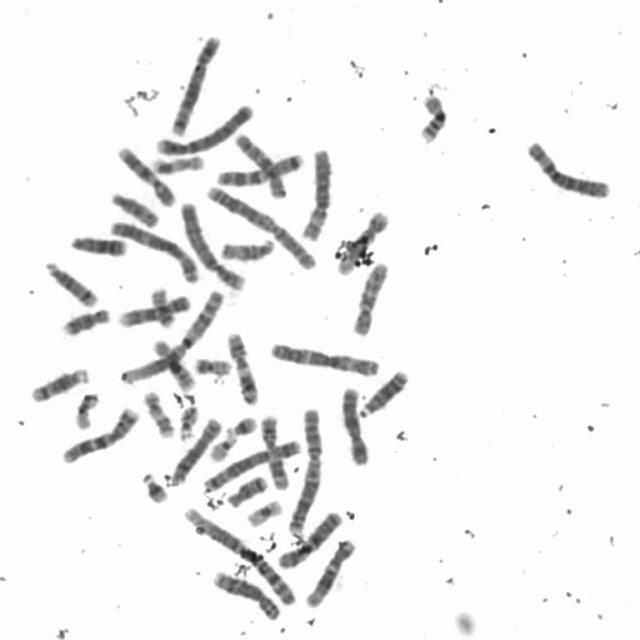A1: (184, 504, 298, 608), (116, 288, 226, 387)
A2: (203, 182, 319, 272), (284, 404, 324, 538)
A3: (107, 217, 201, 285), (266, 338, 382, 378)
B4: (178, 198, 246, 292), (152, 100, 255, 158)
B5: (199, 437, 303, 495), (166, 32, 222, 138)
C10: (231, 130, 287, 201), (348, 258, 391, 338)
C11: (223, 329, 260, 407), (257, 412, 289, 490)
C12: (302, 536, 358, 609), (335, 208, 391, 276)
C6: (522, 138, 611, 200), (297, 144, 334, 242)
C7: (57, 403, 140, 466), (213, 150, 306, 187)
C8: (165, 415, 224, 488), (209, 567, 282, 622)
C9: (115, 143, 177, 209), (114, 292, 193, 329)
D13: (355, 366, 409, 419), (66, 232, 128, 258)
D14: (43, 259, 99, 309), (26, 364, 92, 404)
D15: (108, 189, 161, 230), (218, 236, 278, 263)
E16: (149, 336, 196, 391), (414, 90, 450, 144)
E17: (141, 388, 176, 440), (149, 153, 206, 175)
E18: (59, 304, 113, 338), (224, 473, 269, 509)
F19: (243, 496, 284, 529), (70, 389, 102, 431)
F20: (148, 286, 178, 330), (192, 354, 233, 377)
G21: (139, 470, 170, 505), (223, 413, 259, 438)
G22: (207, 429, 239, 464), (176, 402, 200, 442)
X: (274, 512, 344, 570), (337, 383, 371, 467)
